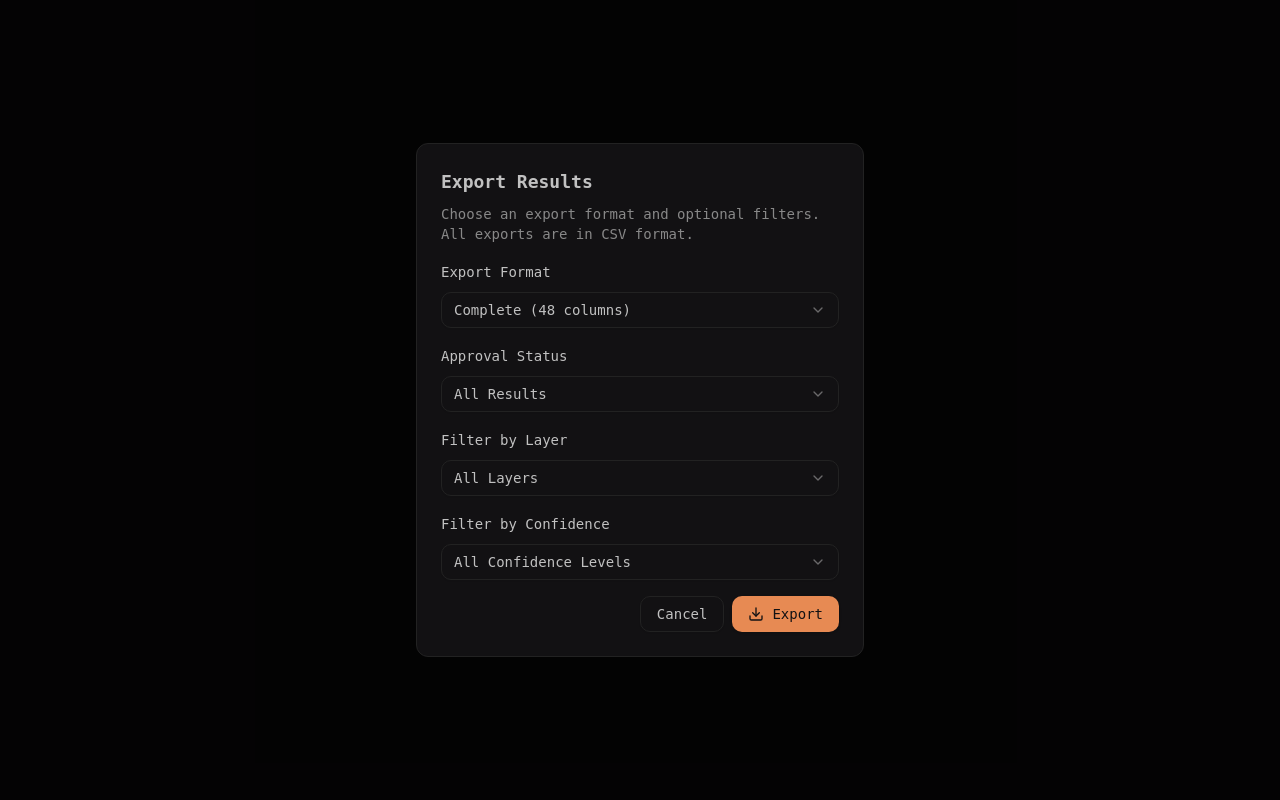
Test: CSV Export Integration Tests › Error Handling Integration › should handle 400 error with invalid format
This screenshot has width=1280, height=800.
Click the button "Export": (786, 614) x1=732 y1=596 x2=839 y2=632
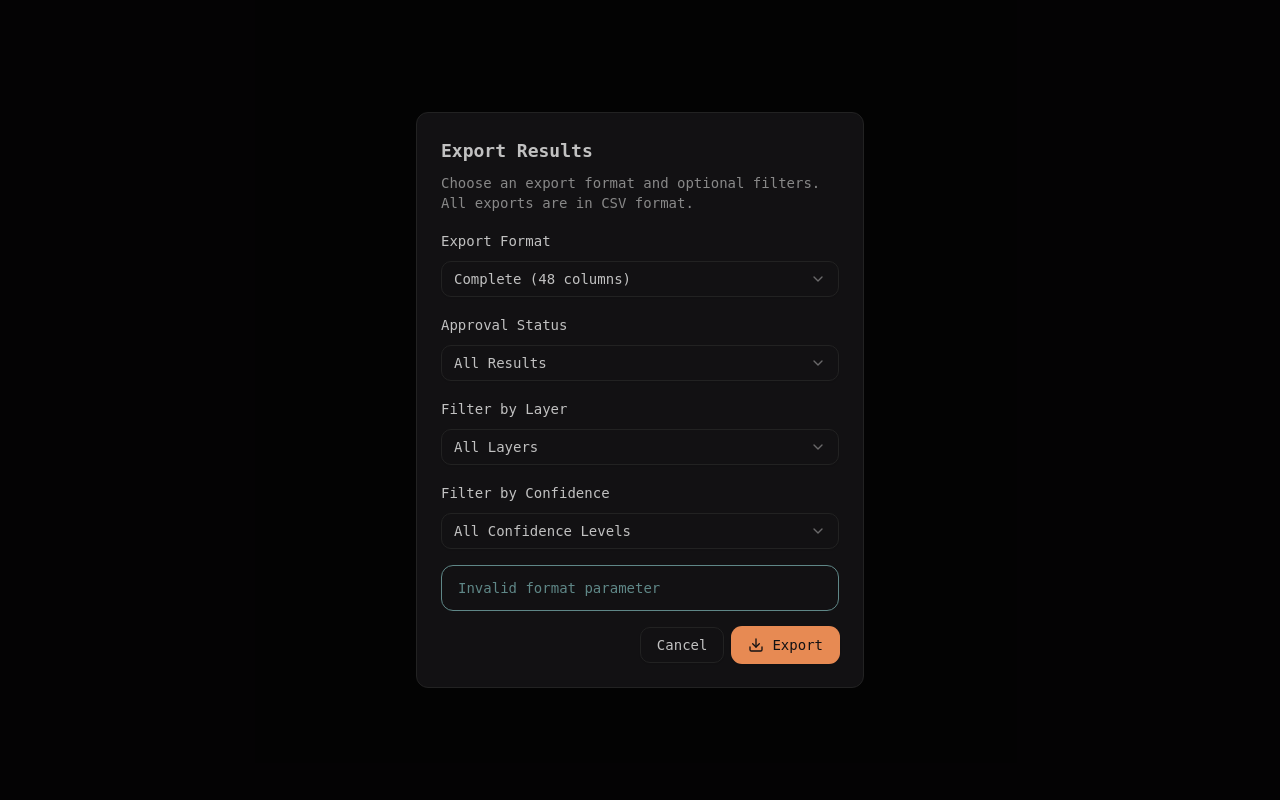
Now the text "Invalid format parameter" is shown, box x1=458 y1=580 x2=660 y2=596
